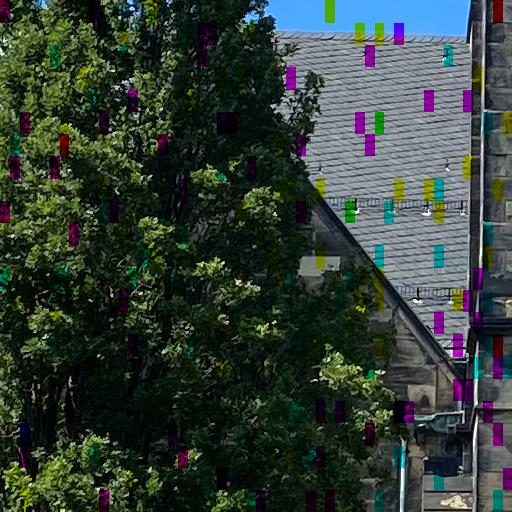tree: (1, 1, 411, 511)
